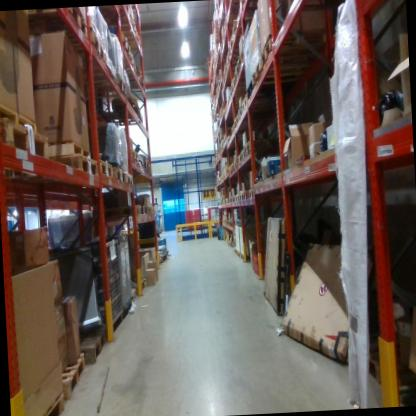pallet: (0, 118, 53, 175), (259, 31, 329, 72), (20, 7, 92, 43), (246, 49, 319, 83), (41, 135, 98, 177), (51, 344, 90, 400), (55, 31, 107, 64), (245, 72, 310, 98), (80, 321, 112, 370), (79, 74, 128, 103), (0, 97, 38, 131), (226, 13, 265, 41), (31, 388, 69, 416), (105, 102, 144, 127), (123, 144, 151, 173), (242, 93, 276, 115), (96, 204, 142, 220), (106, 27, 130, 56), (243, 139, 275, 158), (236, 0, 267, 16), (117, 49, 137, 71), (233, 114, 260, 130), (233, 61, 250, 86), (107, 164, 126, 185), (236, 44, 249, 69), (93, 161, 112, 177), (120, 169, 136, 188), (230, 122, 247, 139), (229, 77, 239, 94), (240, 250, 253, 263), (248, 188, 258, 202), (136, 206, 147, 218), (240, 146, 247, 163), (236, 105, 243, 122), (159, 251, 168, 262), (234, 249, 242, 261), (230, 240, 239, 250), (151, 204, 159, 214), (230, 192, 236, 205), (243, 187, 248, 202), (145, 204, 152, 214), (239, 189, 244, 203), (237, 153, 242, 166), (224, 240, 232, 248), (235, 192, 239, 203)
pallet_truck: (216, 207, 224, 239), (212, 204, 218, 239)
small_load_carrier: (248, 249, 275, 277)
stillage: (73, 232, 124, 342)
